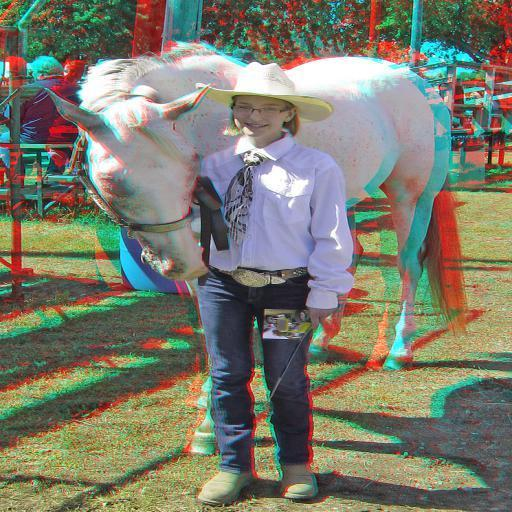horse: (39, 36, 468, 458)
